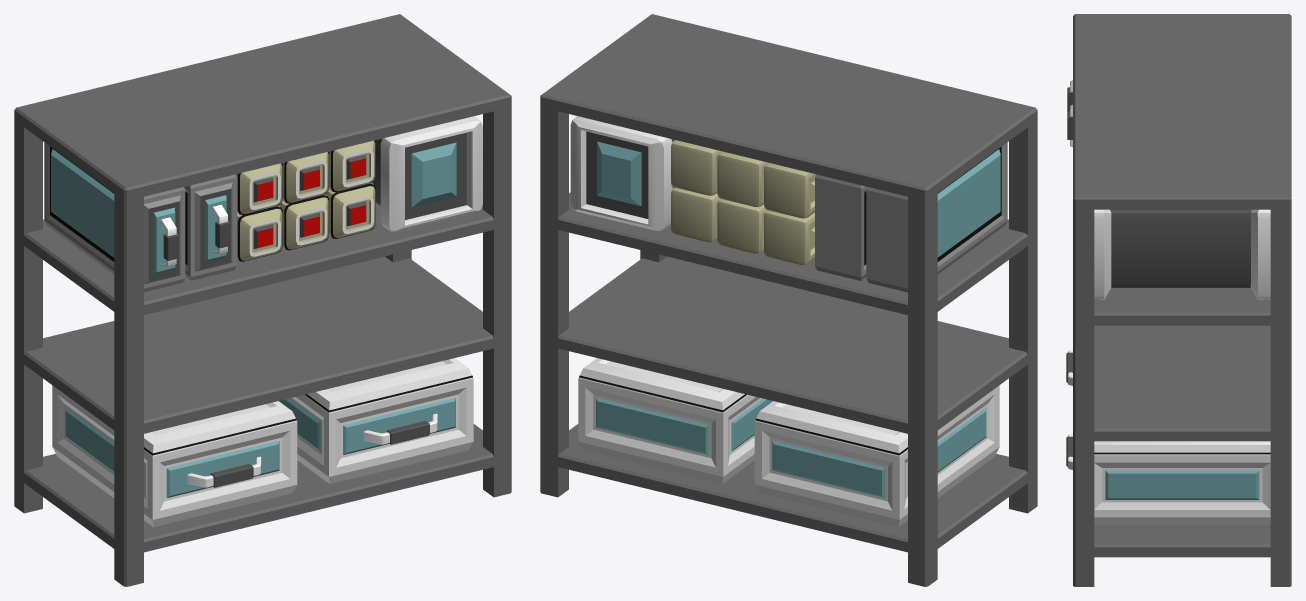
Rendered from Shelf_Set.fbx.
3 renders of one model, left to right at view 1: azimuth 30°, elevation 25°; view 2: azimuth 150°, elevation 25°; view 3: azimuth 270°, elevation 25°, orthographic. The views are drawn at different scales.
Visible parts, largest first — view 1: Plane003; view 2: Plane003; view 3: Plane003.
Boxes of the visible parts, <box> form: Plane003: <box>14,14,511,586</box>; Plane003: <box>540,14,1037,586</box>; Plane003: <box>1066,14,1291,586</box>.
Size of the model in its own units: 200 by 196 by 103.
